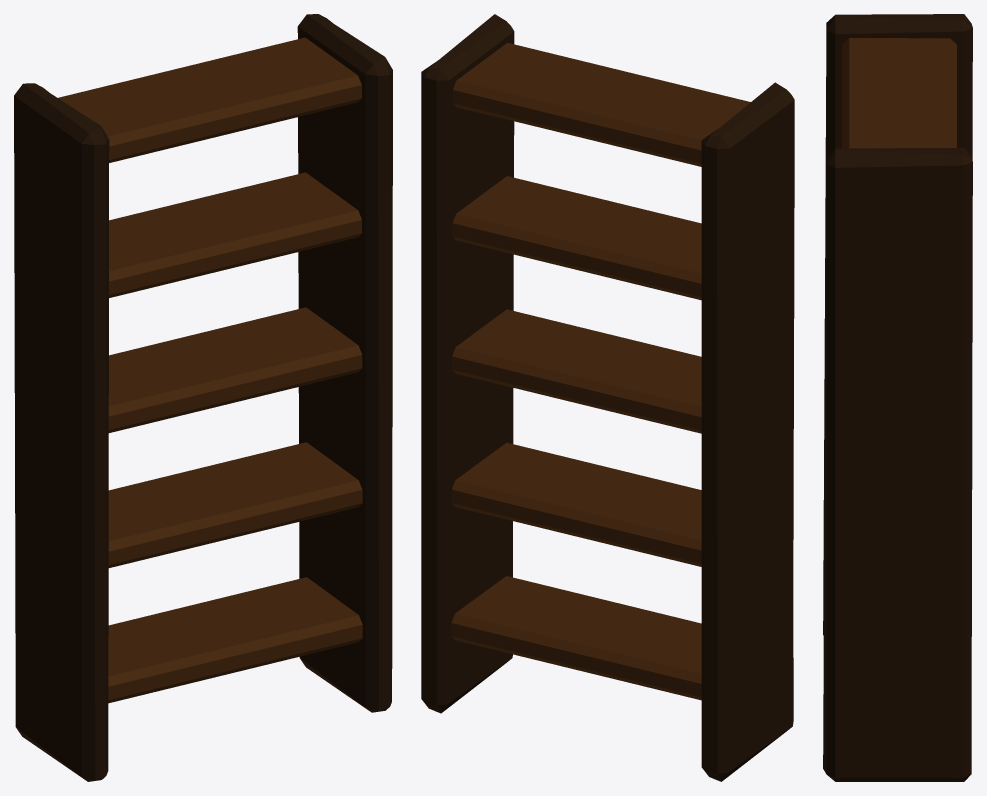
The model's file is Shelf.FBX.
3 renders of one model, left to right at view 1: azimuth 30°, elevation 25°; view 2: azimuth 150°, elevation 25°; view 3: azimuth 270°, elevation 25°, orthographic. The views are drawn at different scales.
Visible parts, largest first — view 1: Shelf; view 2: Shelf; view 3: Shelf.
Part boxes in pixels (x1,y1,x2,y2): Shelf: [14, 14, 392, 781]; Shelf: [421, 14, 794, 781]; Shelf: [823, 14, 972, 781].
Bounding box in the file's own units: 121 × 243 × 52.06.
